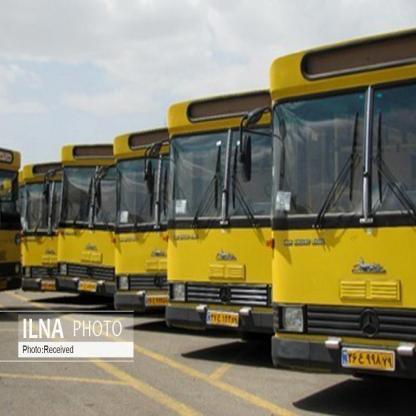Bus: (263, 25, 416, 376), (154, 93, 279, 342), (113, 120, 172, 316), (58, 138, 113, 298), (21, 157, 63, 293)
